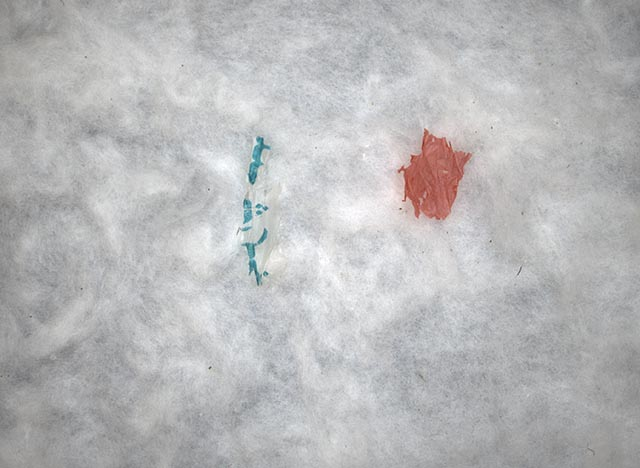plastic film: (233, 135, 282, 289), (397, 126, 473, 222)
